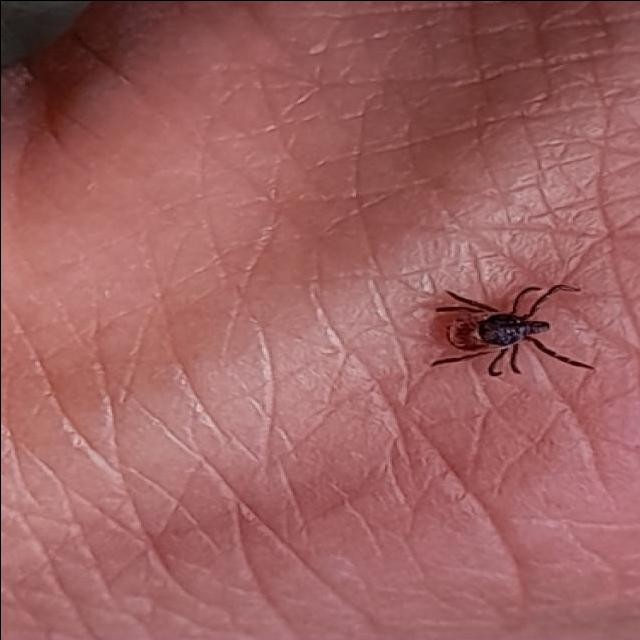Ixodes Ricinus-F: (430, 285, 592, 376)
